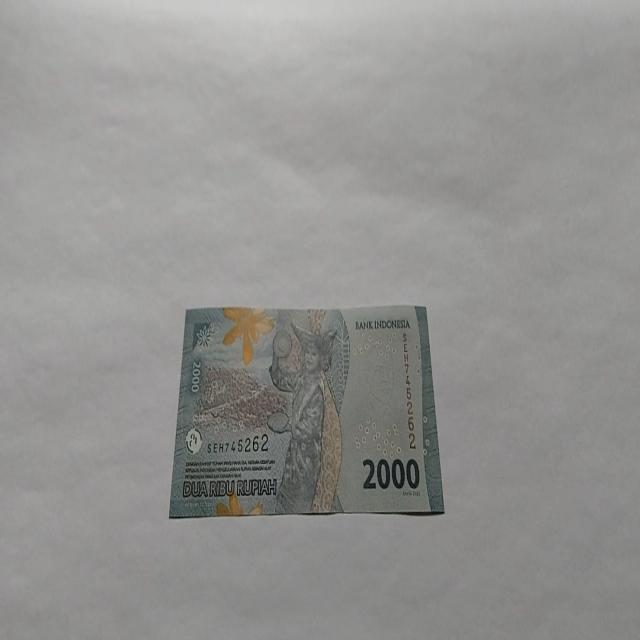dua ribu rupiah: (168, 303, 444, 518), (266, 320, 342, 514)
